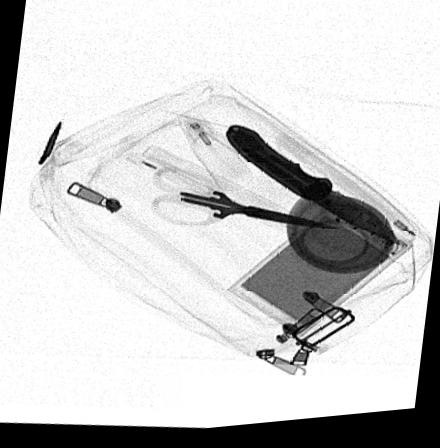Knife: (225, 131, 399, 255)
Powerbank: (223, 205, 420, 347)
Scissors: (147, 170, 342, 238)
